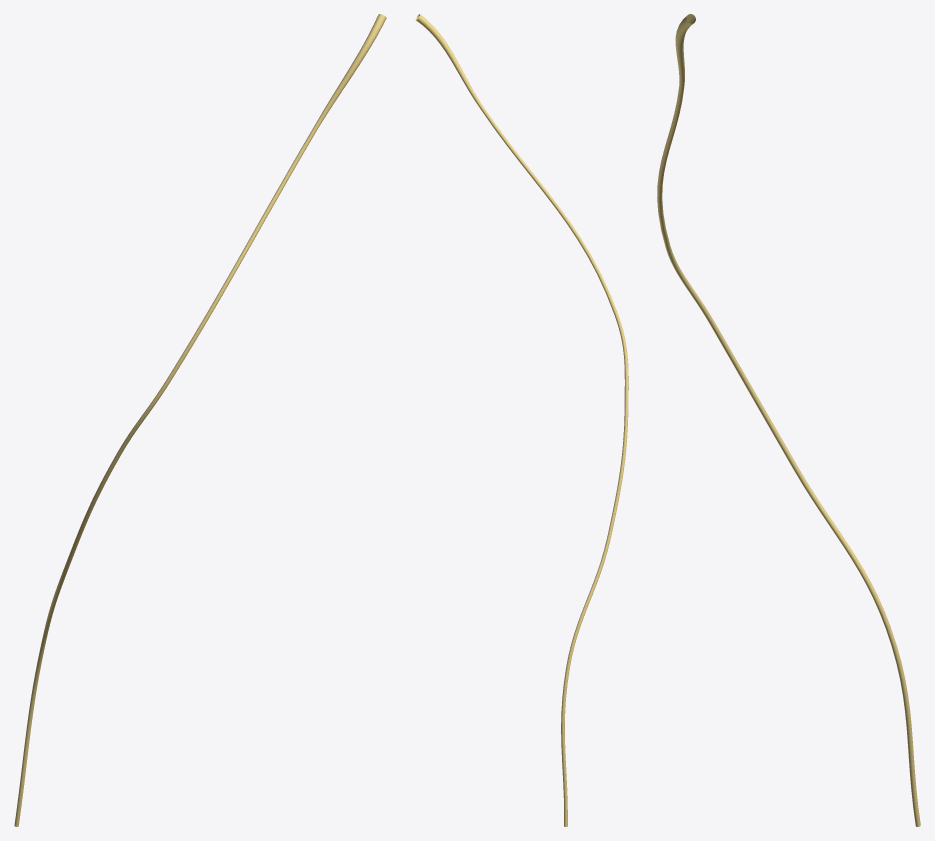
3 views of the same model, side by side, from view 1: azimuth 30°, elevation 25°; view 2: azimuth 150°, elevation 25°; view 3: azimuth 270°, elevation 25° (orthographic). The views are drawn at different scales.
Visible parts, largest first — view 1: ZA_552ce3f8d35f1802; view 2: ZA_552ce3f8d35f1802; view 3: ZA_552ce3f8d35f1802.
Boxes of the visible parts, box(x1,y1,x2,y2) form: ZA_552ce3f8d35f1802: box(14, 14, 386, 826); ZA_552ce3f8d35f1802: box(415, 14, 628, 826); ZA_552ce3f8d35f1802: box(657, 14, 920, 826).
Size of the model in its own units: 0.0715 by 0.2033 by 0.0503.
